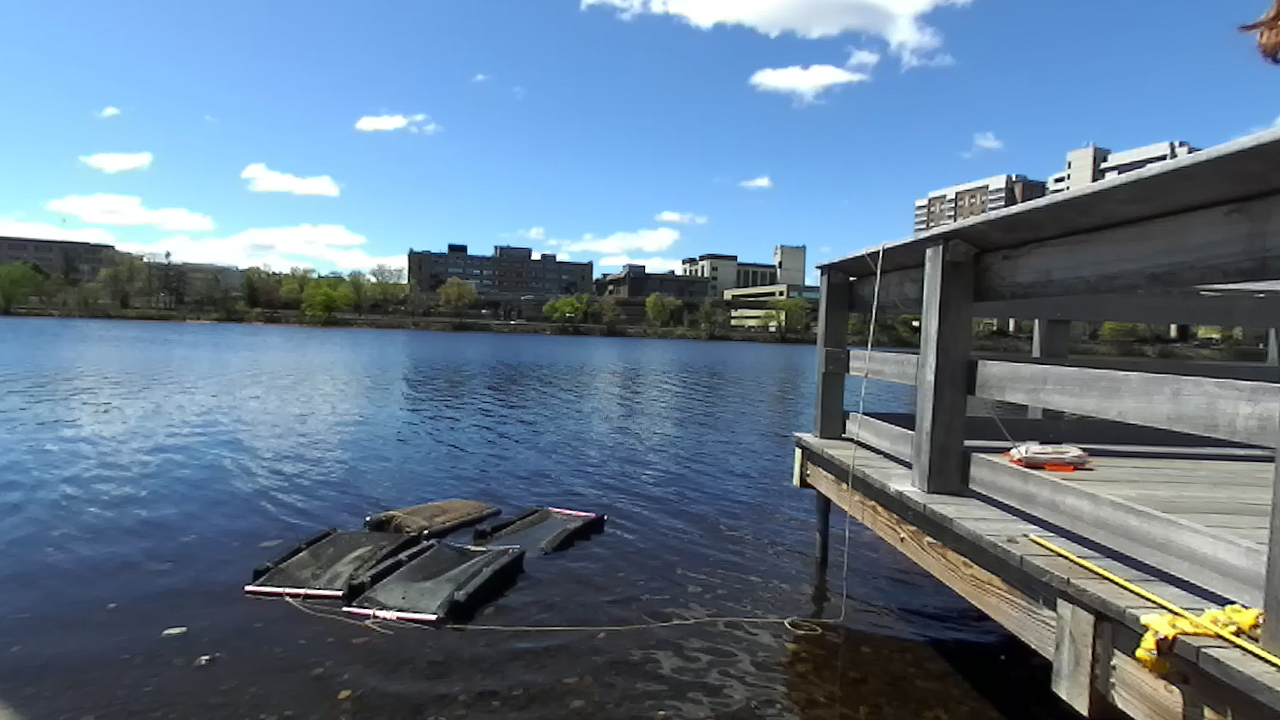bag: (352, 538, 514, 630), (243, 526, 417, 596), (482, 504, 602, 550), (366, 497, 502, 537)
